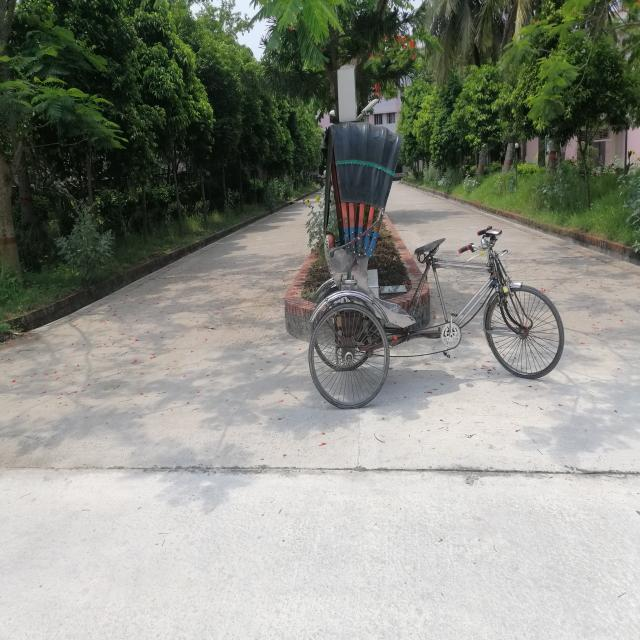Rickshaw: (293, 121, 594, 414)
